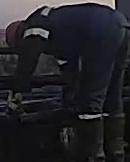helmet: (5, 20, 23, 48)
vest: (26, 2, 129, 64)
